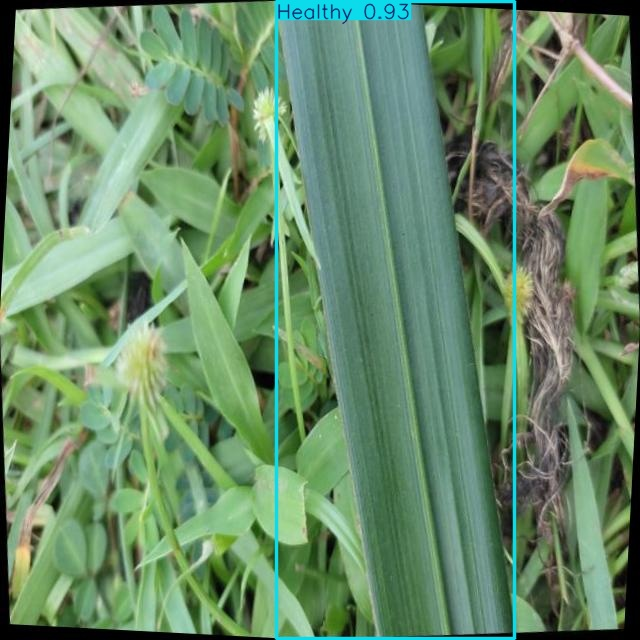Healthy: (277, 1, 514, 639)
